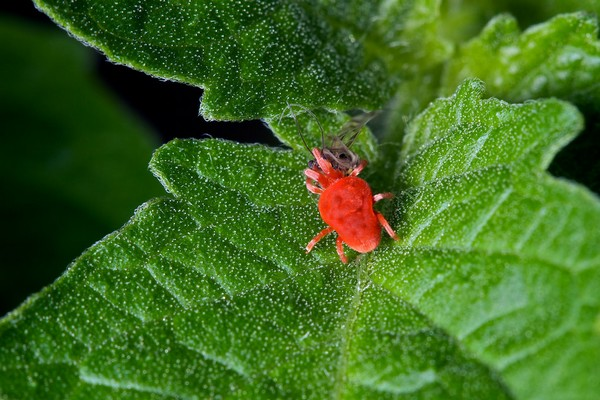Mites: (291, 127, 401, 279)
